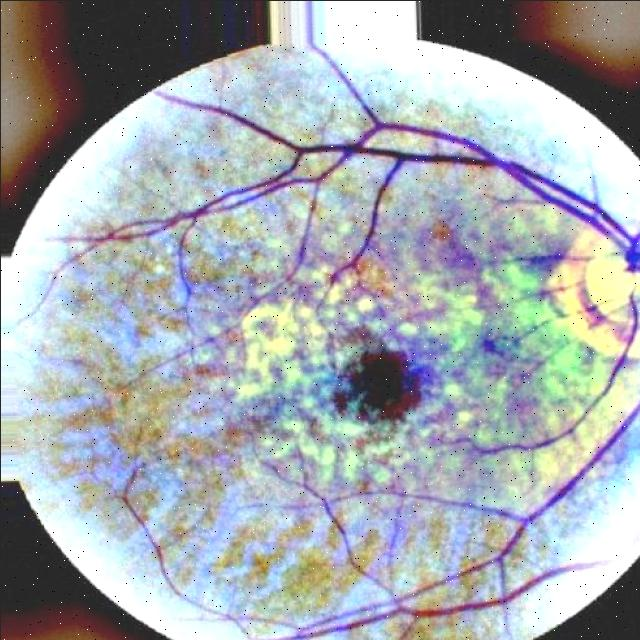Macula: (333, 343, 419, 421)
Nerves: (212, 0, 640, 272), (479, 287, 637, 449), (497, 396, 640, 566), (295, 562, 596, 637), (526, 296, 613, 340), (494, 250, 589, 272), (506, 284, 580, 309)
Optic Disk: (587, 224, 640, 334)
